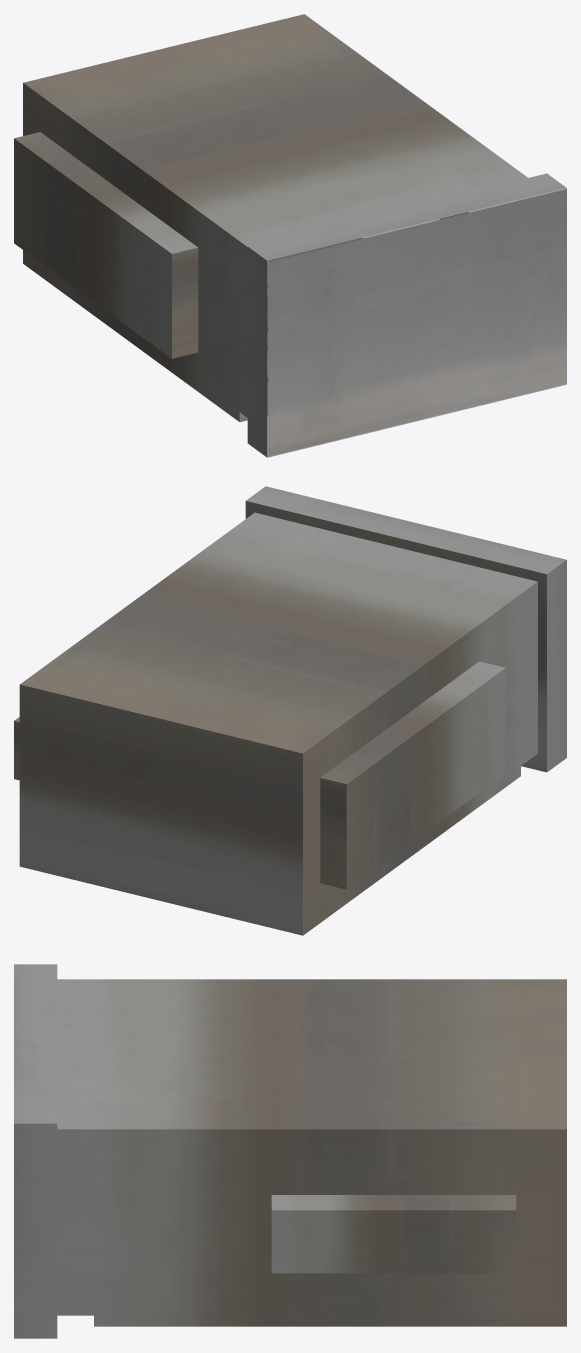
File: zbfkx005-geode.glb
The picture shows the model from 3 angles, top to bottom: view 1: azimuth 30°, elevation 25°; view 2: azimuth 150°, elevation 25°; view 3: azimuth 270°, elevation 25°; orthographic projection. The views are drawn at different scales.
Visible parts, largest first — view 1: Node; view 2: Node; view 3: Node.
Part boxes in pixels (x1,y1,x2,y2): Node: (14,14,566,457); Node: (14,486,566,935); Node: (14,964,566,1338).
Size of the model in its own units: 1.05 by 0.5887 by 1.37.
2 materials, 2 textured.
